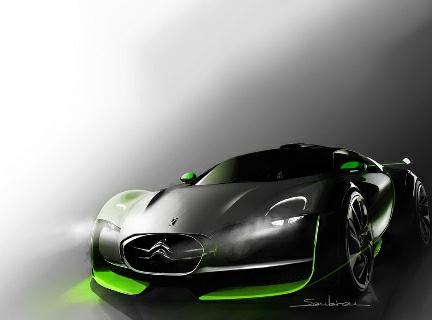雪铁龙-Survolt: (80, 145, 430, 319)
